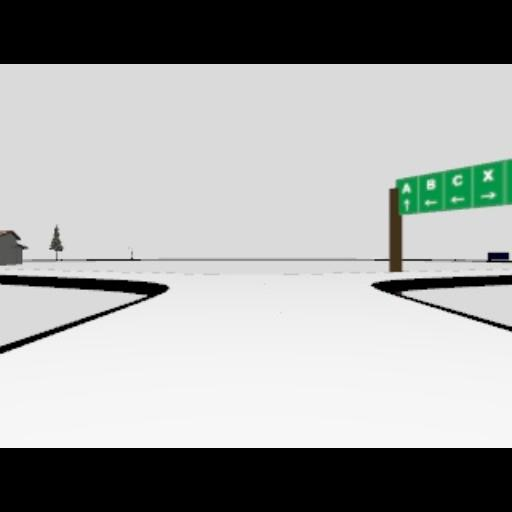A: (402, 182, 412, 194)
B: (426, 178, 436, 190)
C: (452, 174, 462, 186)
Left: (424, 198, 438, 208), (450, 195, 466, 203)
Right: (480, 191, 498, 199)
Straight: (403, 198, 411, 212)
X: (482, 170, 494, 182)
